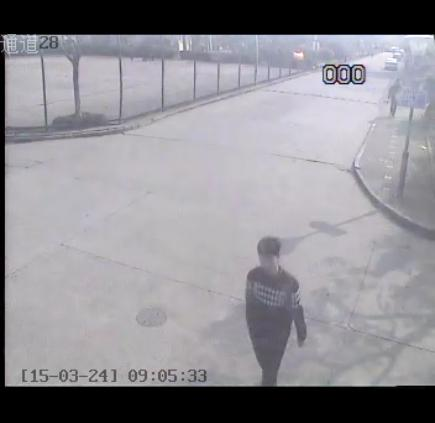person: (226, 229, 320, 386), (384, 74, 407, 121)
